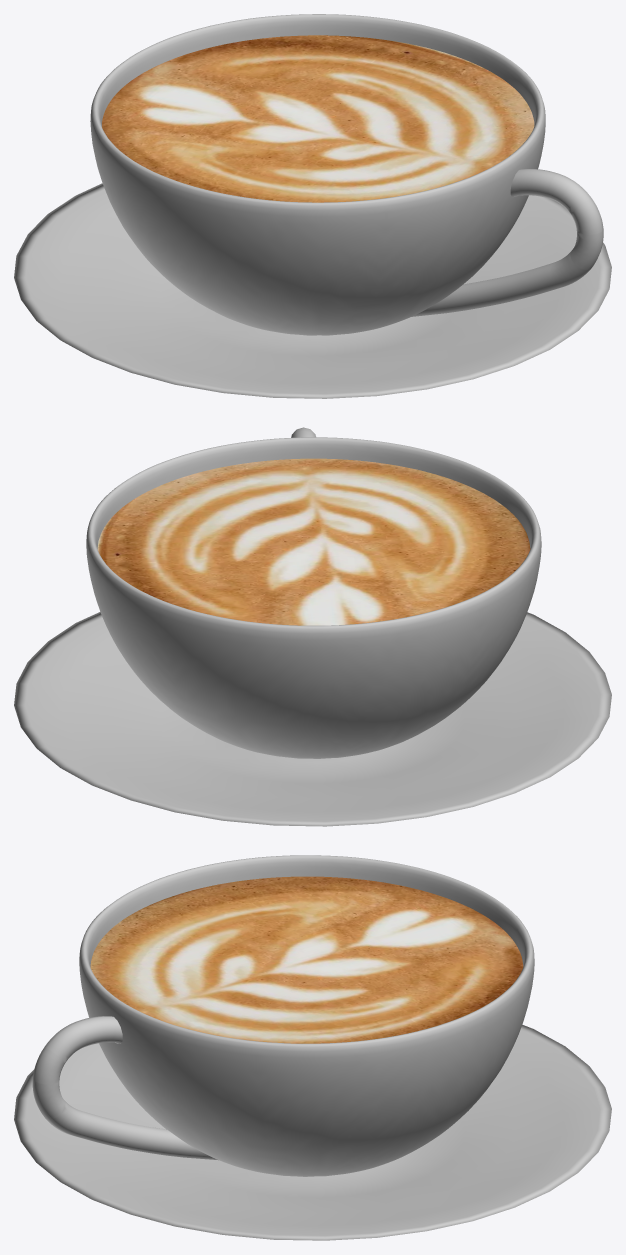
File: Coffee-transformed.glb
3 renders of one model, top to bottom at view 1: azimuth 30°, elevation 25°; view 2: azimuth 150°, elevation 25°; view 3: azimuth 270°, elevation 25°, orthographic.
Visible parts, largest first — view 1: Sphere001, Object001_Material #26_0, Cylinder001, Line001; view 2: Cylinder001, Sphere001, Object001_Material #26_0; view 3: Sphere001, Object001_Material #26_0, Cylinder001, Line001.
Part boxes in pixels (box(x1,y1,x2,y2)): Sphere001: box(90, 14, 545, 335); Object001_Material #26_0: box(102, 35, 534, 202); Cylinder001: box(14, 183, 611, 398); Line001: box(411, 169, 603, 316); Cylinder001: box(14, 612, 611, 826); Sphere001: box(86, 437, 541, 758); Object001_Material #26_0: box(97, 458, 530, 625); Sphere001: box(79, 855, 534, 1176); Object001_Material #26_0: box(90, 876, 523, 1043); Cylinder001: box(14, 1024, 611, 1240); Line001: box(32, 1016, 218, 1160).
Size of the model in its own units: 105 by 37.97 by 105.
Materials: 2 (1 with a texture image).
